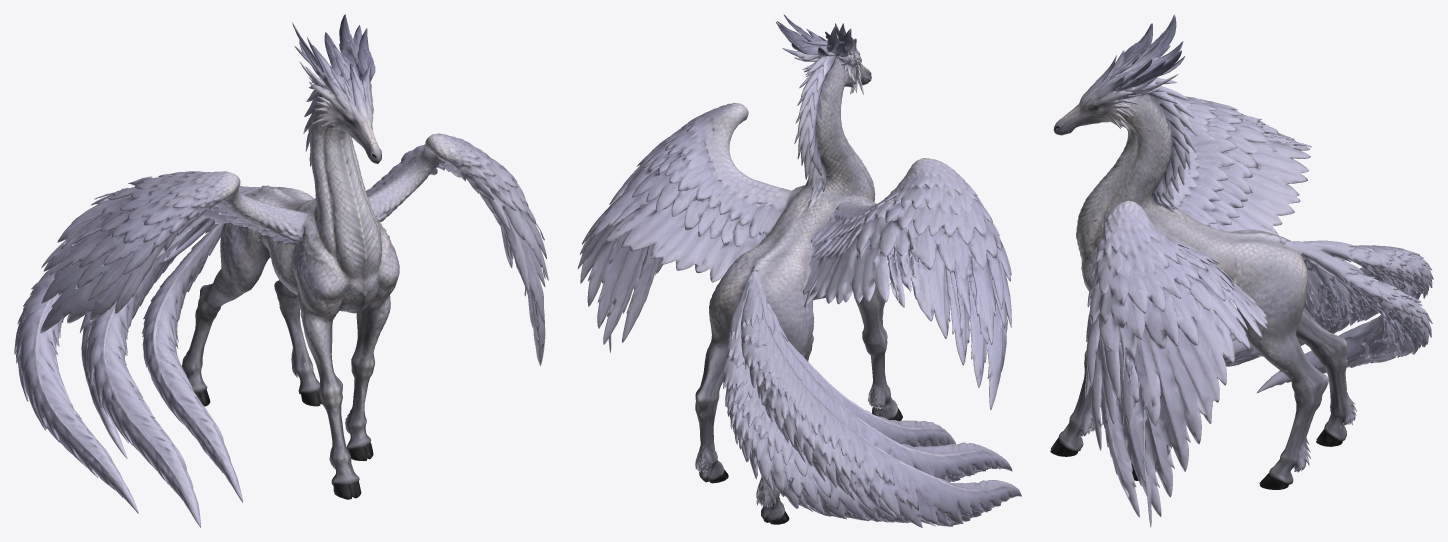
Rendered from saelis-source.glb.
3 views of the same model, side by side, from view 1: azimuth 30°, elevation 25°; view 2: azimuth 150°, elevation 25°; view 3: azimuth 270°, elevation 25° (orthographic).
Parts seen in each view (by area): view 1: Mesh_0; view 2: Mesh_0; view 3: Mesh_0.
Part boxes in pixels (x1=…): Mesh_0: x1=14, y1=14, x2=548, y2=527; Mesh_0: x1=577, y1=14, x2=1021, y2=527; Mesh_0: x1=1050, y1=14, x2=1433, y2=527.
Size of the model in its own units: 1.9 by 1.8 by 1.4.
1 material, 1 textured.
